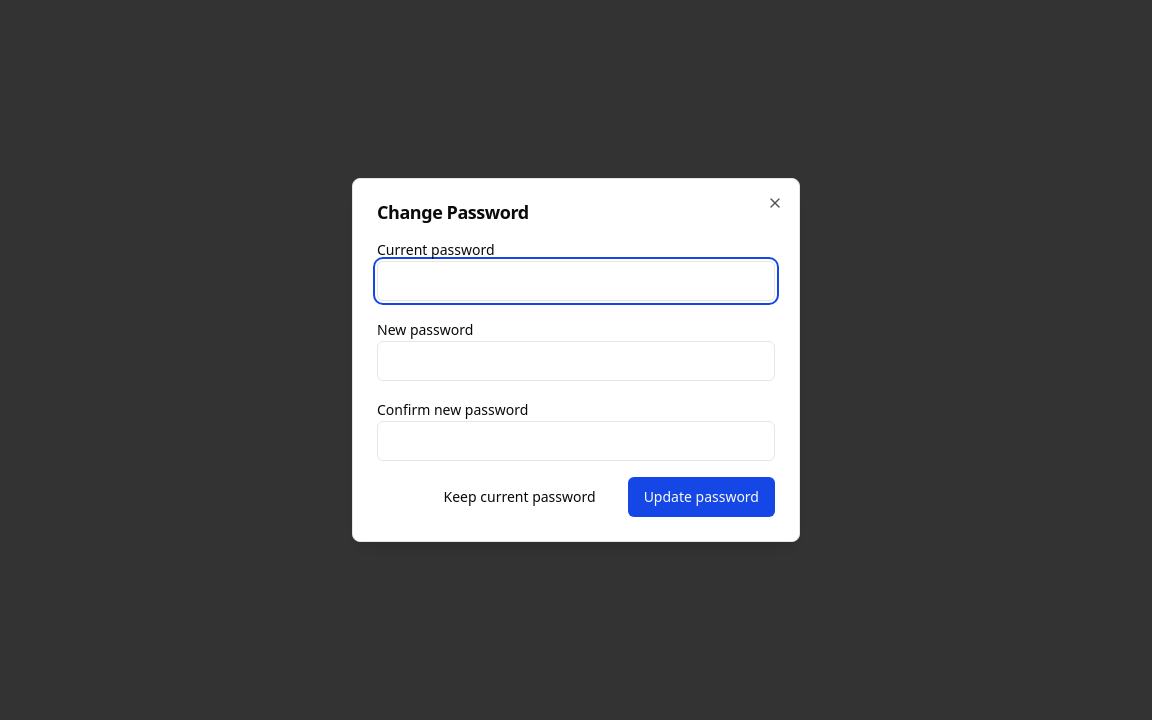
Test case: ChangePasswordDialog › shows "Passwords do not match." when new password and confirm don't match
Type "oldpass" into the password field labelled "Current password" at {"x": 576, "y": 281}, box x1=377 y1=261 x2=775 y2=301
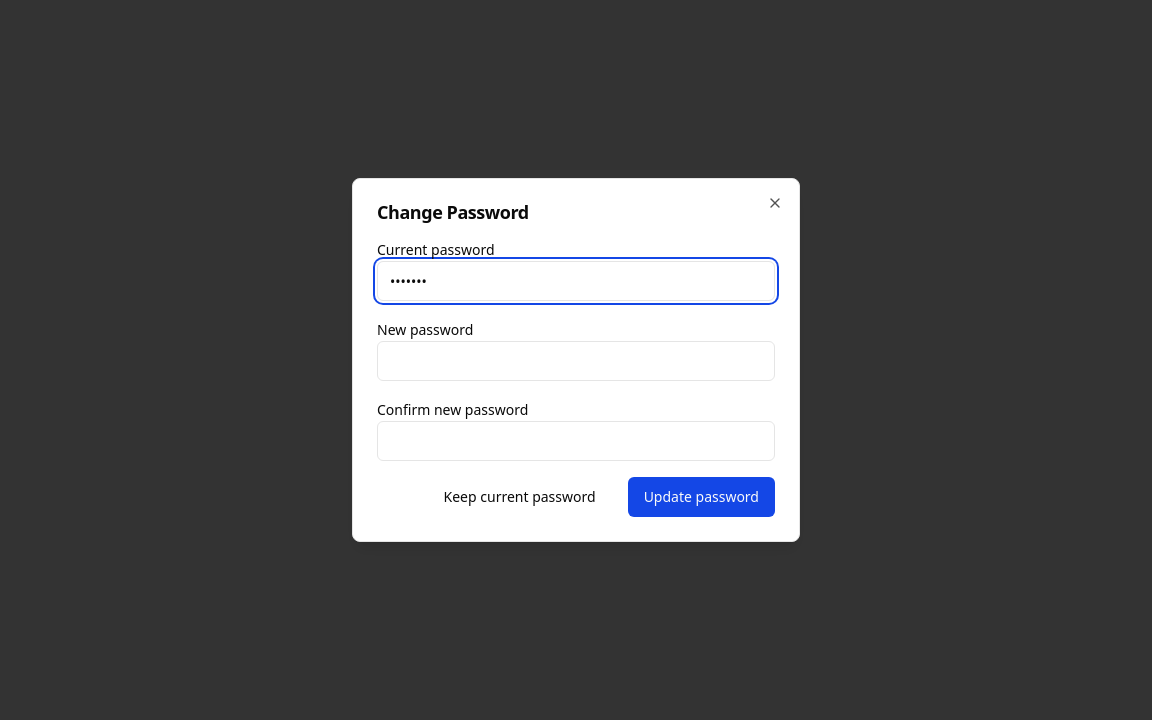
Type "newpass123" into the password field labelled "New password" at {"x": 576, "y": 361}, box x1=377 y1=341 x2=775 y2=381
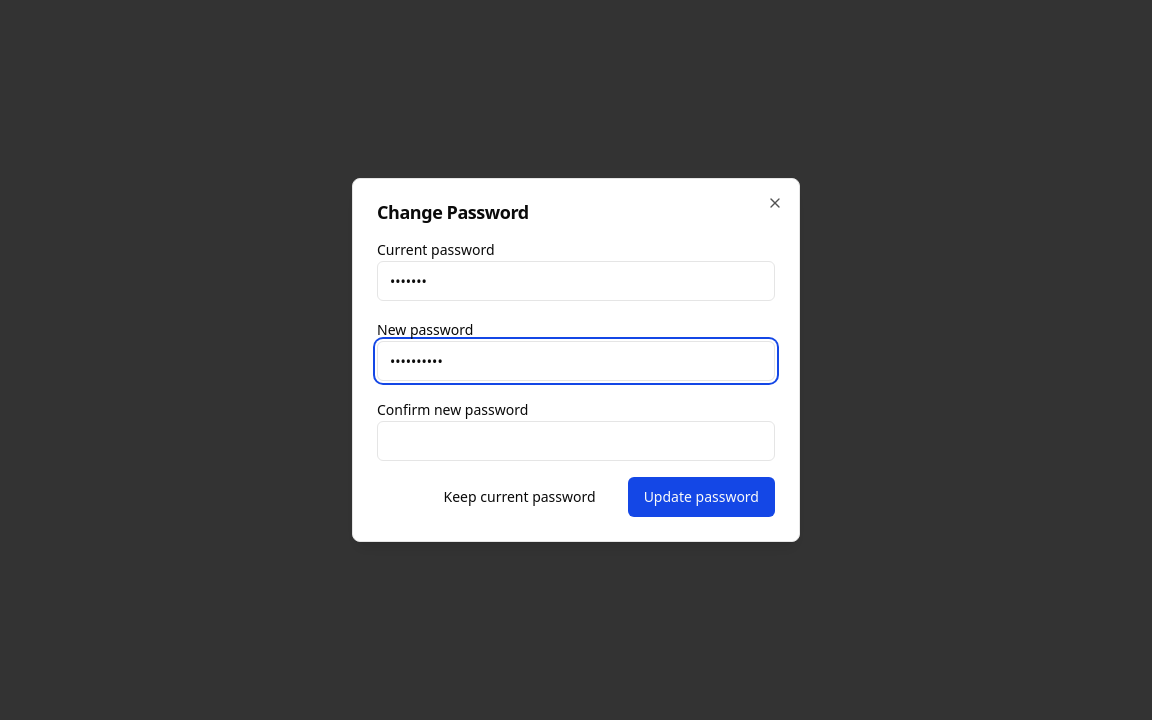
Type "different" into the password field labelled "Confirm new password" at {"x": 576, "y": 441}, box x1=377 y1=421 x2=775 y2=461
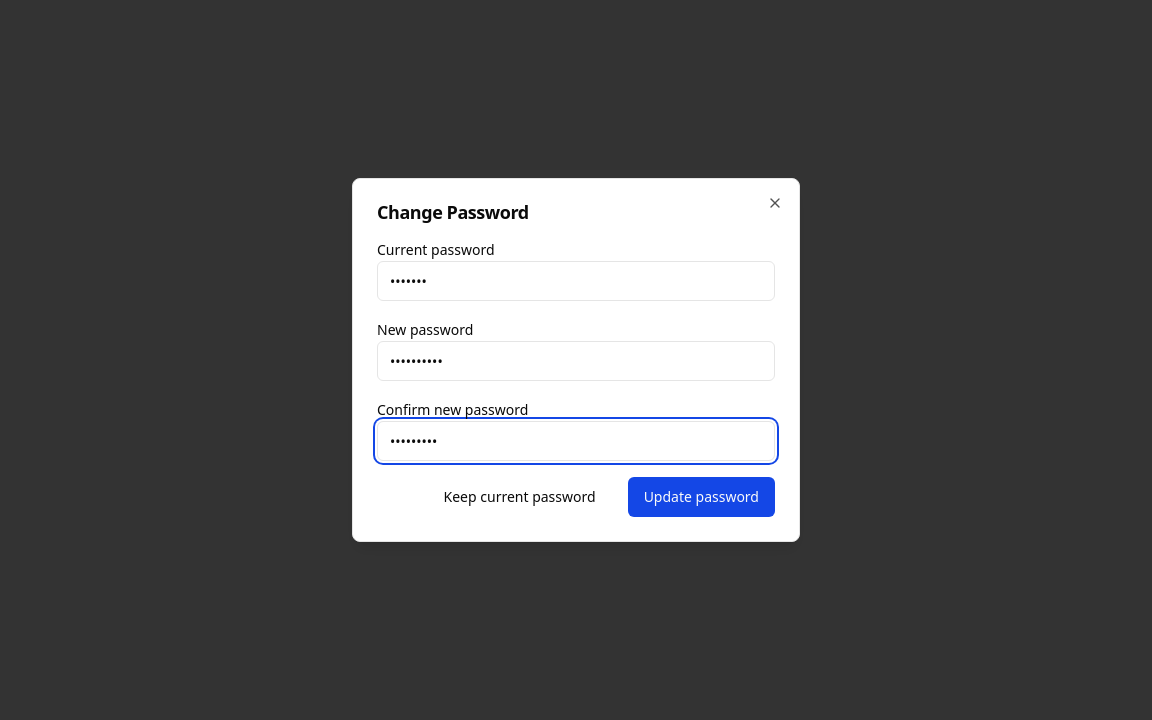
Click the button "Update password" at {"x": 701, "y": 497}, box x1=628 y1=477 x2=775 y2=517
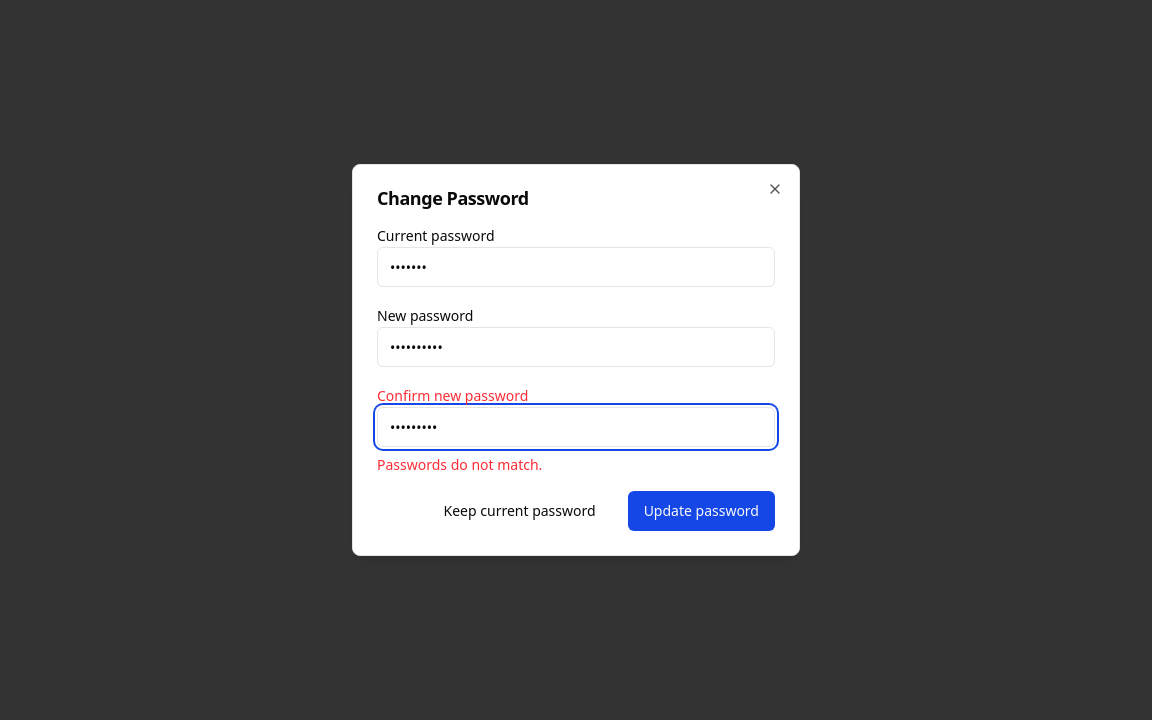
Expected: the text "Passwords do not match." is shown, x1=377 y1=455 x2=542 y2=474
